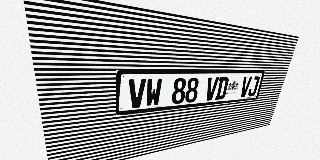8: (171, 78, 187, 104), (184, 77, 200, 103)
D: (215, 77, 229, 100)
J: (247, 76, 260, 97)
V: (128, 79, 146, 109), (204, 77, 219, 101), (239, 76, 252, 97)
W: (145, 78, 162, 107)
